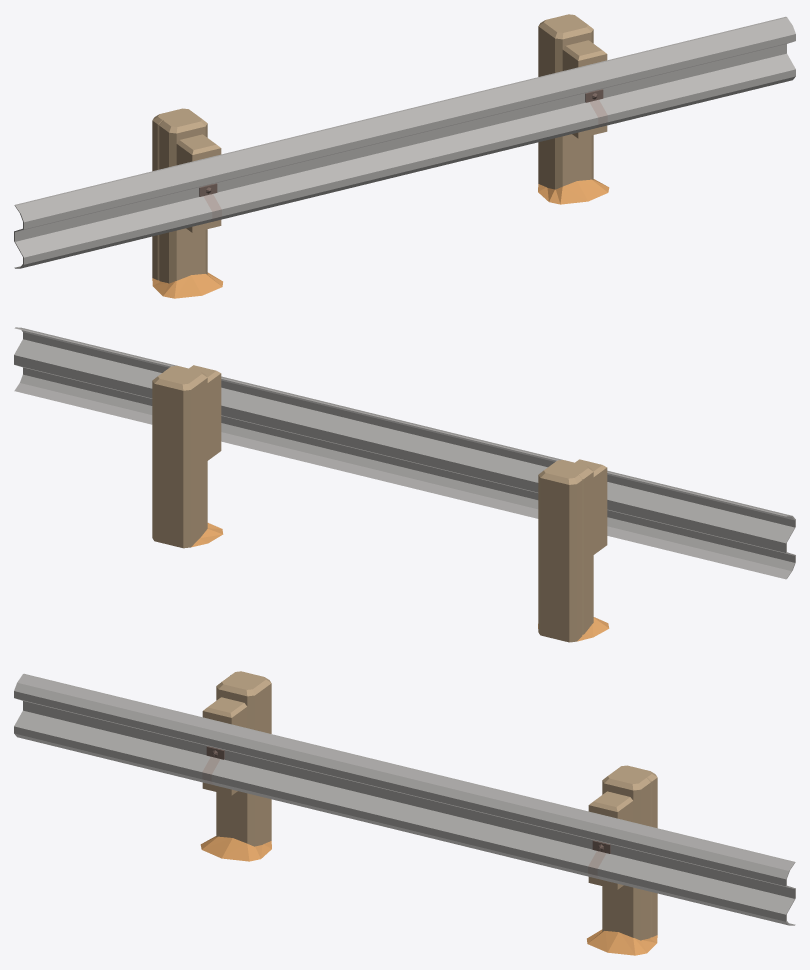
Rendered from guard-rail-run-8ed595.glb.
3 views of the same model, one above another, from view 1: azimuth 30°, elevation 25°; view 2: azimuth 150°, elevation 25°; view 3: azimuth 330°, elevation 25° (orthographic).
Parts seen in each view (by area): view 1: rail, posts; view 2: rail, posts; view 3: rail, posts.
Part boxes in pixels (<box>): rail: <box>14,16,795,268</box>; posts: <box>152,14,609,298</box>; rail: <box>14,327,795,579</box>; posts: <box>152,365,609,642</box>; rail: <box>14,673,795,925</box>; posts: <box>200,671,657,955</box>.
Bounding box in the file's own units: 4 × 0.8 × 0.432.
